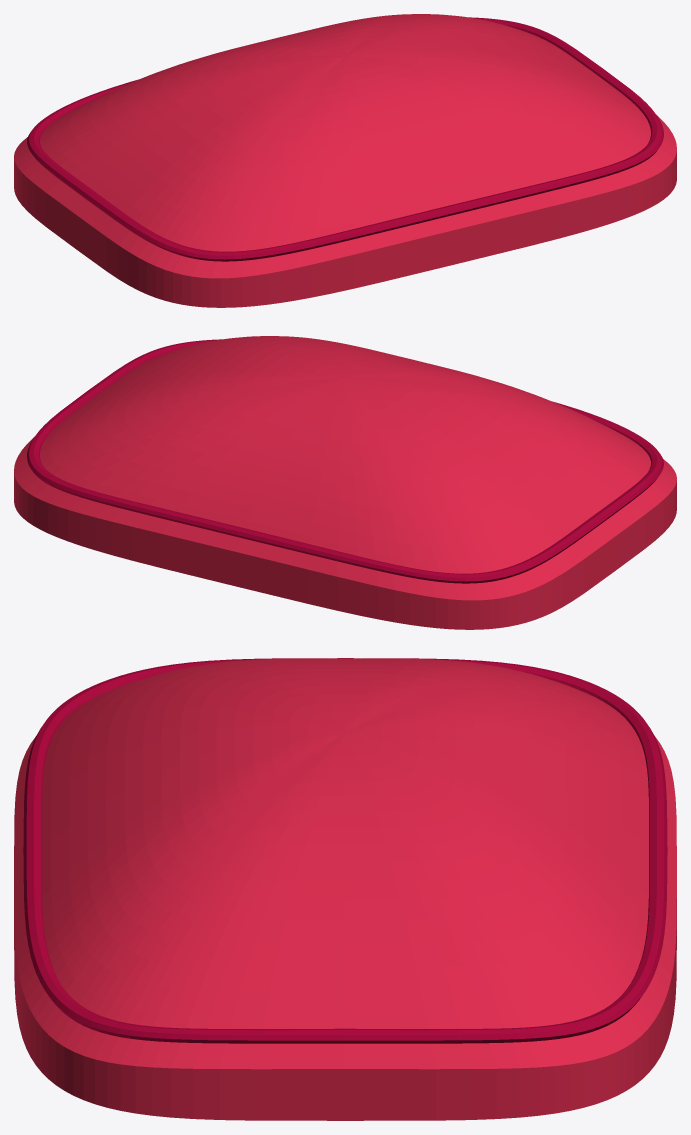
Rendered from CatPillow.glb.
3 renders of one model, top to bottom at view 1: azimuth 30°, elevation 25°; view 2: azimuth 150°, elevation 25°; view 3: azimuth 270°, elevation 25°, orthographic. The views are drawn at different scales.
Parts seen in each view (by area): view 1: CatPillow_Cushion, CatPillow_Seam; view 2: CatPillow_Cushion, CatPillow_Seam; view 3: CatPillow_Cushion, CatPillow_Seam.
Part boxes in pixels (x1,y1,x2,y2): CatPillow_Cushion: (14, 14, 676, 307); CatPillow_Seam: (27, 17, 663, 261); CatPillow_Cushion: (14, 336, 676, 629); CatPillow_Seam: (27, 339, 663, 583); CatPillow_Cushion: (14, 658, 676, 1120); CatPillow_Seam: (23, 658, 667, 1043).
Bounding box in the file's own units: 1.52 × 0.343 × 1.08.
